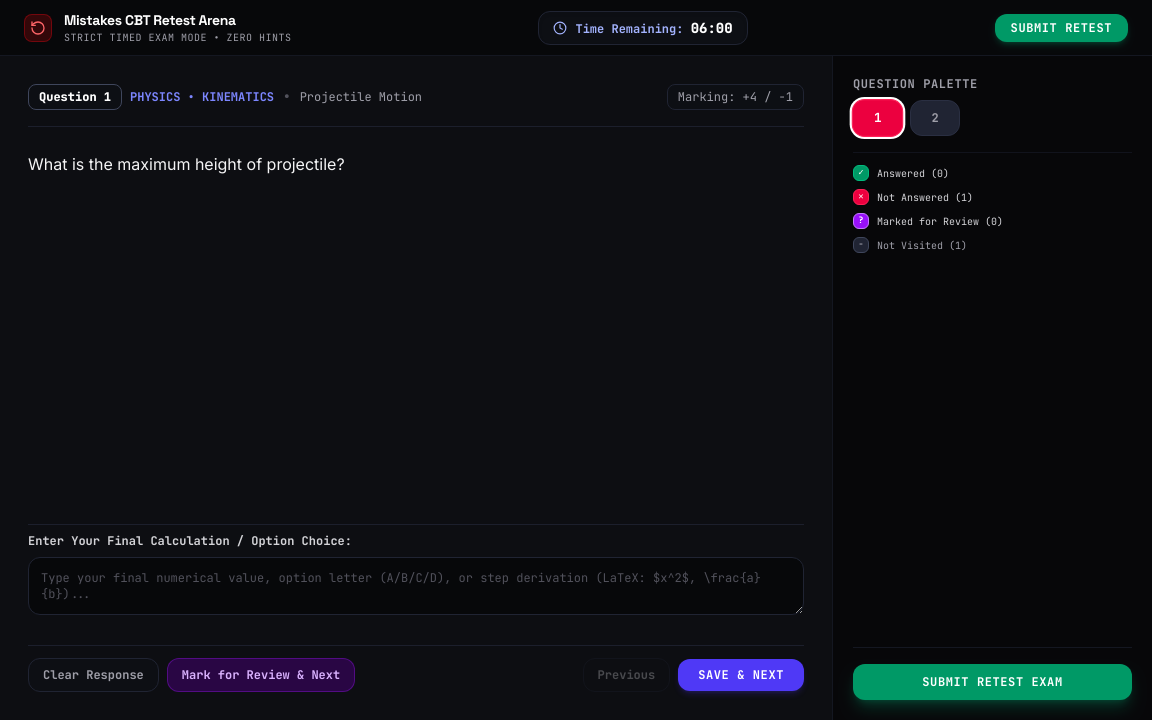
MistakesCbtTestArena (BUG-02 Navigation & Answer Preservation) › preserves user answers and does not reset question index when navigating questions
expect the text "Question 1" is shown: met, box [28,84,122,110]
# Type an answer in Question 1 textarea
Replace the text in the text box with placeholder "Type your final numerical value" with "u^2 sin^2 theta / (2g)" at (416, 586), box [28,557,804,615]
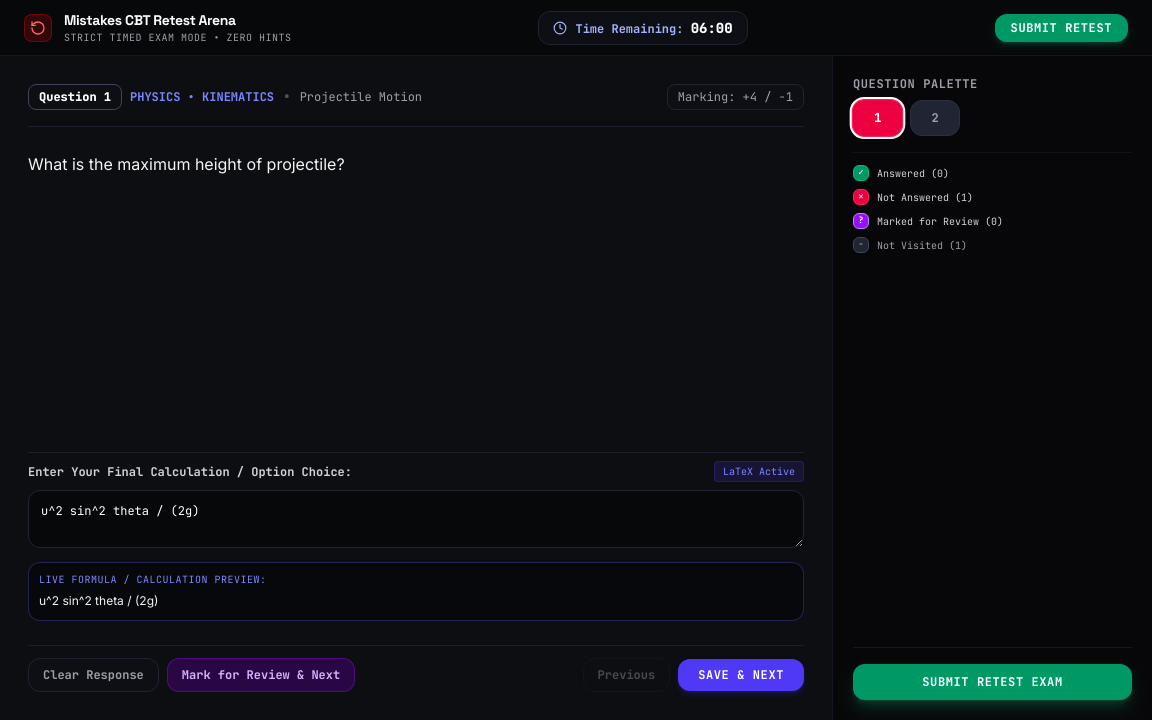
# Click "Save & Next" to navigate to Question 2
Click the button "Save & Next" at (741, 675), box [678,659,804,691]
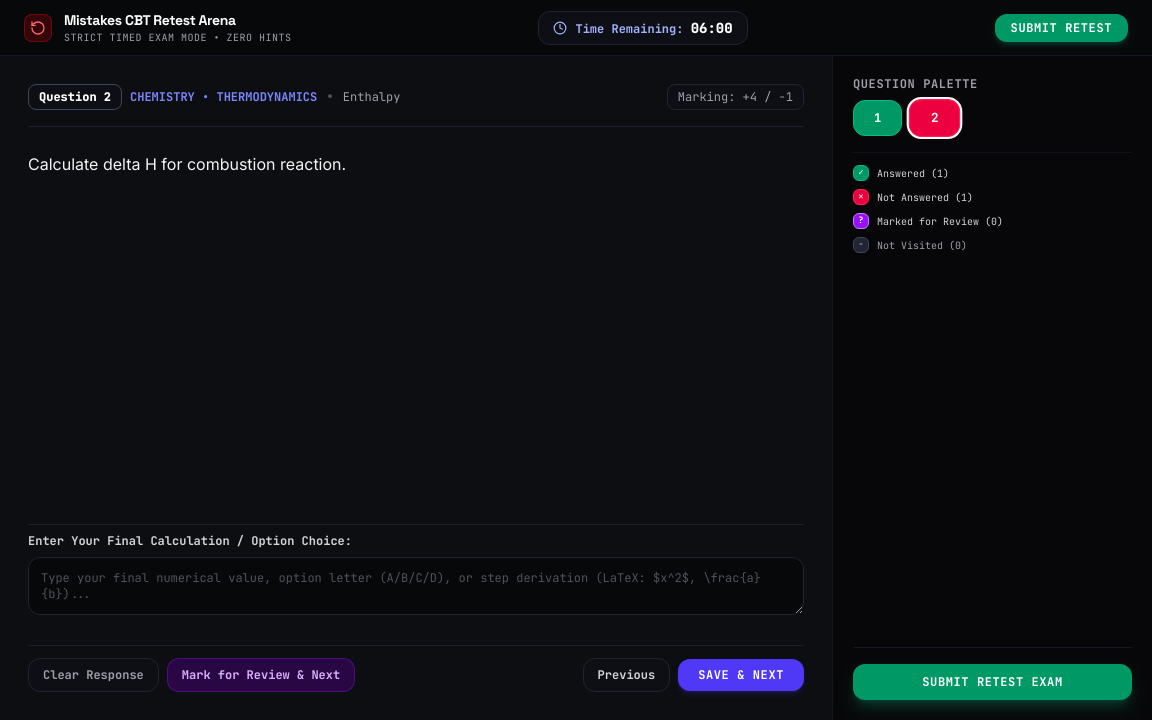
expect the text "Question 2" is shown: met, box [28,84,122,110]
# Navigate back to Question 1 using Previous button
Click the button "Previous" at (626, 675), box [583,658,670,692]
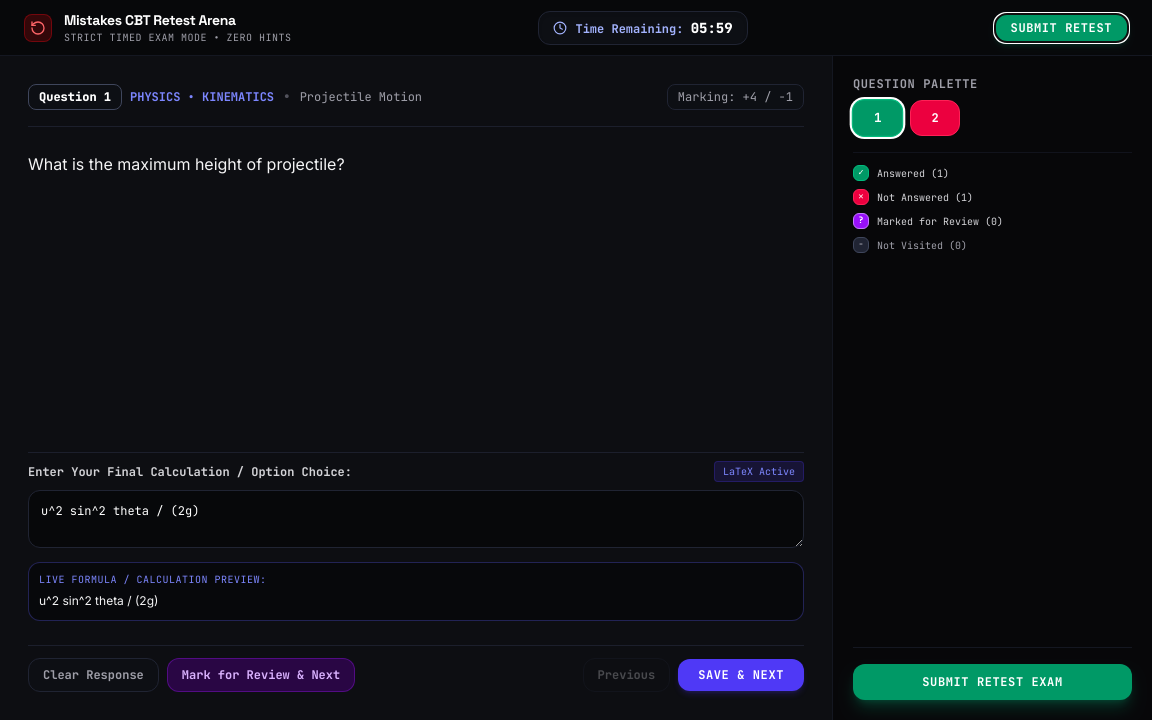
expect the text "Question 1" is shown: met, box [28,84,122,110]
